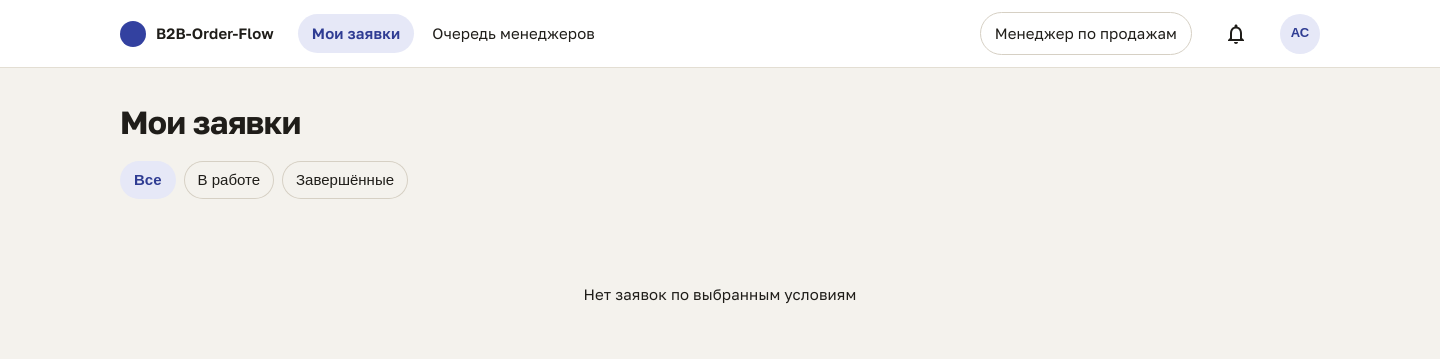
Test: UI-14. Экран уведомлений › запрос счётчика упал, а список загрузился › в выпадающем списке кнопка видна и работает
The width and height of the screenshot is (1440, 359).
Click the button with test id "notifications-bell".
click(1236, 34)  # box [1216,14,1256,54]
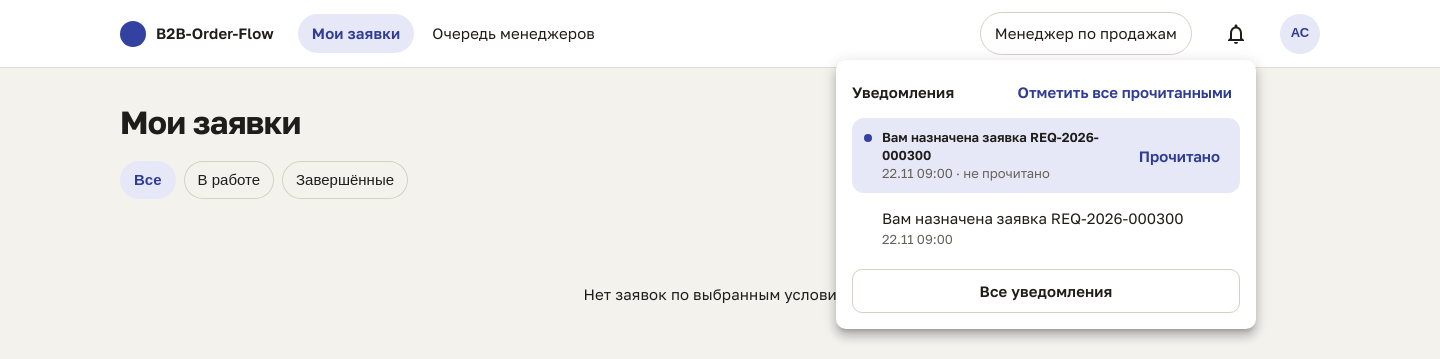
Result: the element with test id "notifications-menu-row-n-1" is shown at [852,118,1240,193]
Click the button with test id "action-read-all".
click(1125, 92)  # box [1010,76,1240,108]
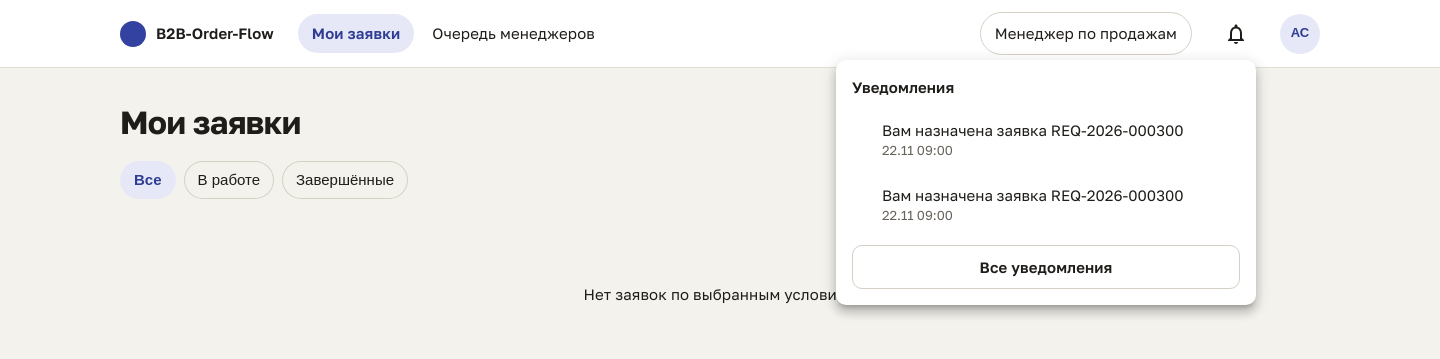
Result: the button with test id "action-read-all" is gone
